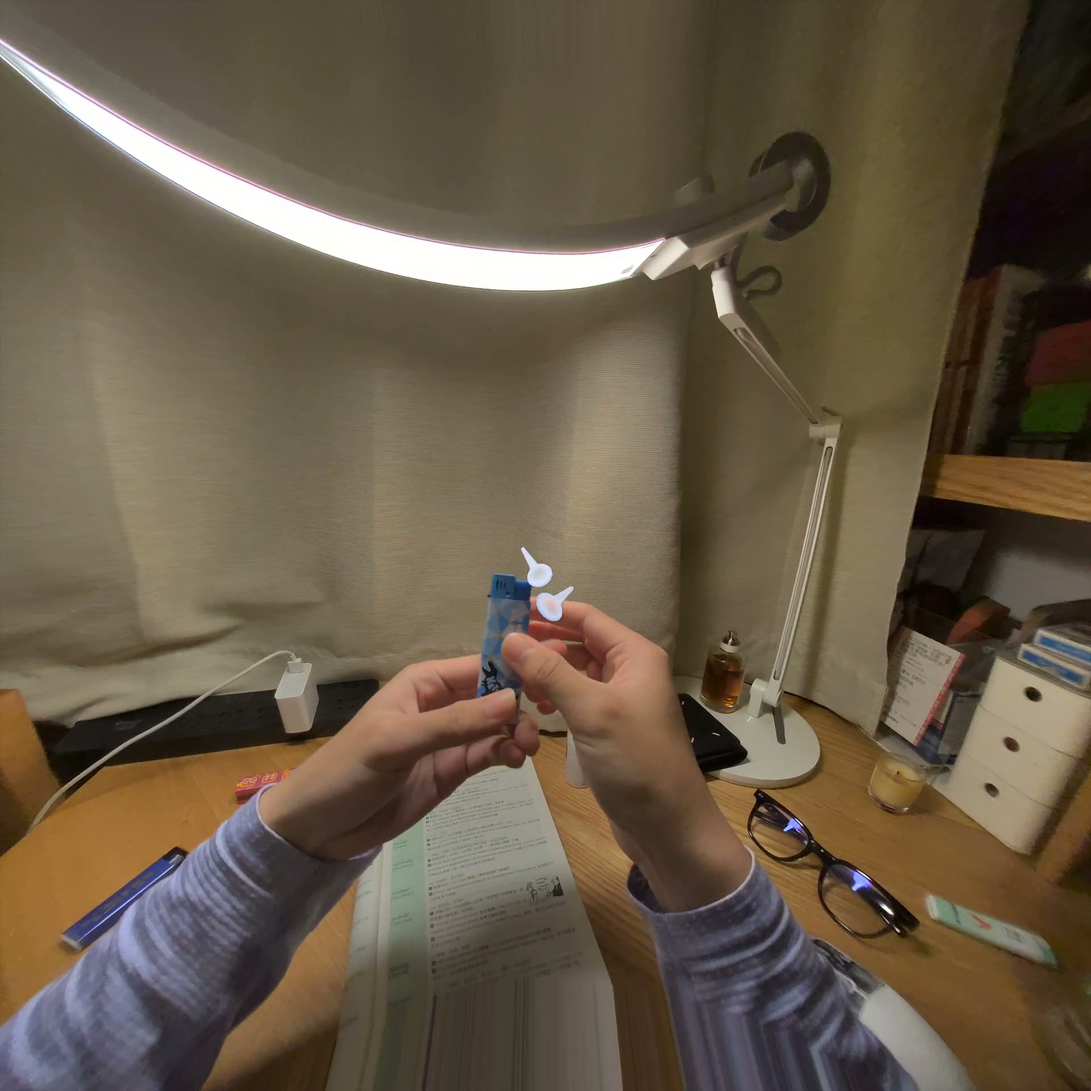lighter: (478, 573, 530, 698)
